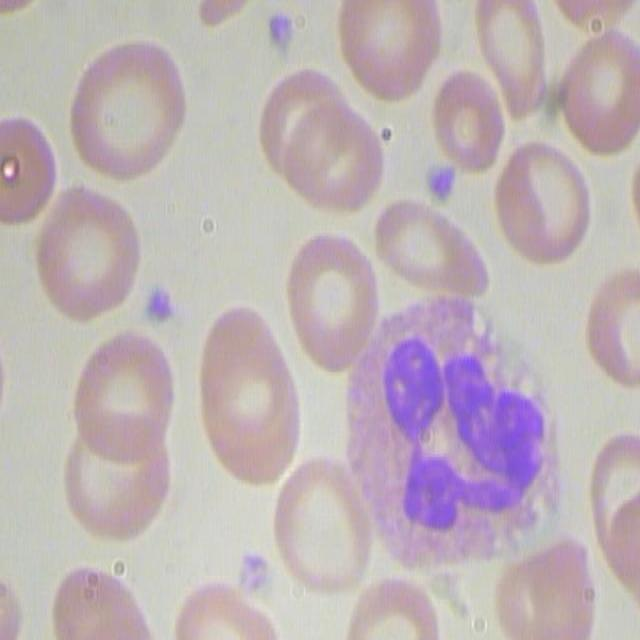RBC: (62, 319, 178, 540), (191, 304, 301, 486), (254, 64, 380, 216), (70, 31, 190, 186), (273, 458, 381, 606), (34, 183, 141, 324), (372, 196, 491, 320), (284, 221, 381, 372), (494, 136, 596, 268), (476, 1, 564, 121), (335, 0, 440, 100), (494, 538, 596, 640), (555, 28, 640, 150), (586, 428, 640, 593), (47, 561, 156, 638), (434, 64, 506, 180), (342, 570, 449, 640), (0, 112, 53, 249), (587, 263, 640, 393), (170, 577, 278, 640), (1, 585, 37, 640)
WBC: (347, 280, 558, 574)
platelets: (231, 548, 276, 602), (264, 1, 297, 59), (422, 163, 460, 204), (141, 286, 178, 327)
